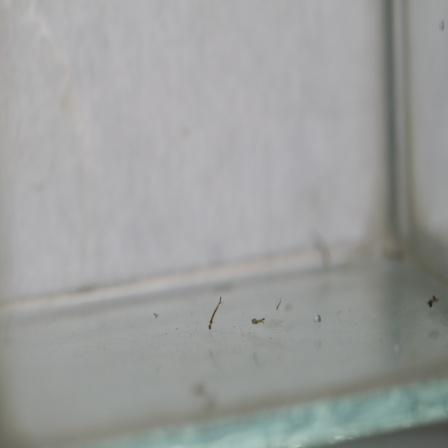Jentik-Nyamuk: (202, 292, 228, 332), (422, 292, 442, 310), (247, 313, 269, 328)
